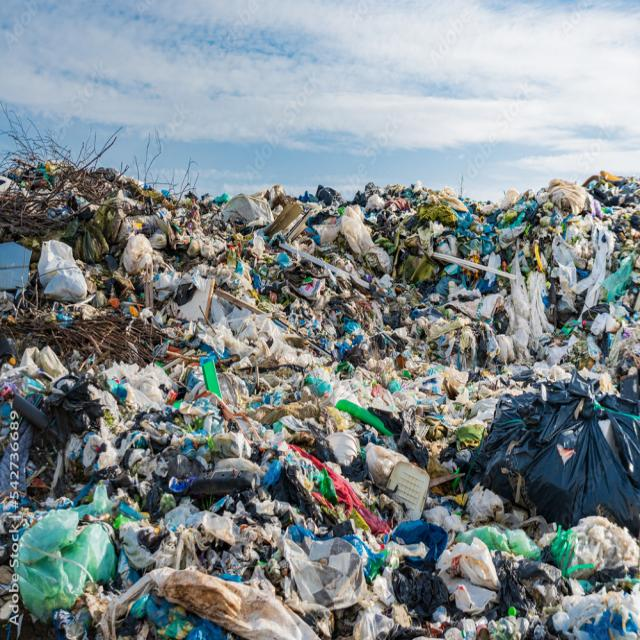trash: (21, 158, 613, 612)
